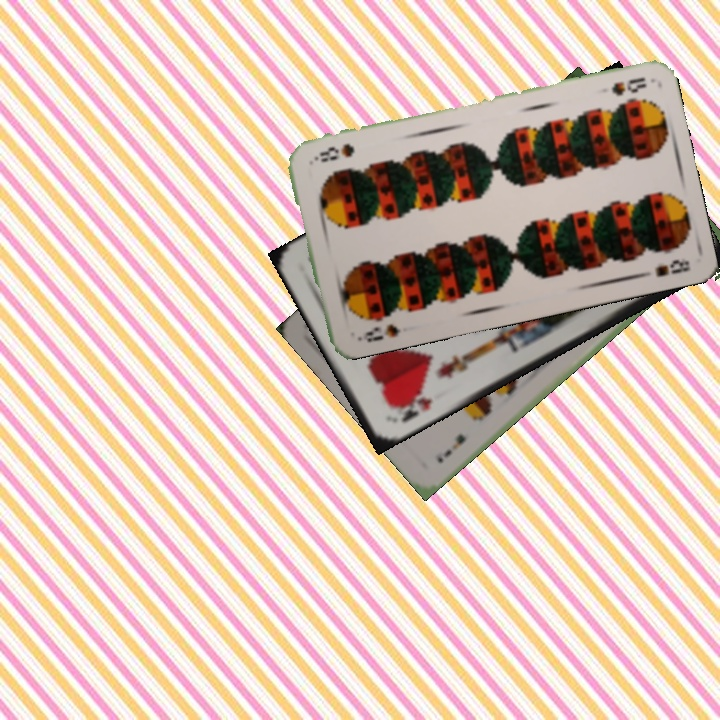E7: (431, 429, 469, 466)
HK: (387, 389, 435, 425)
S8: (353, 320, 404, 345), (607, 73, 650, 99)
